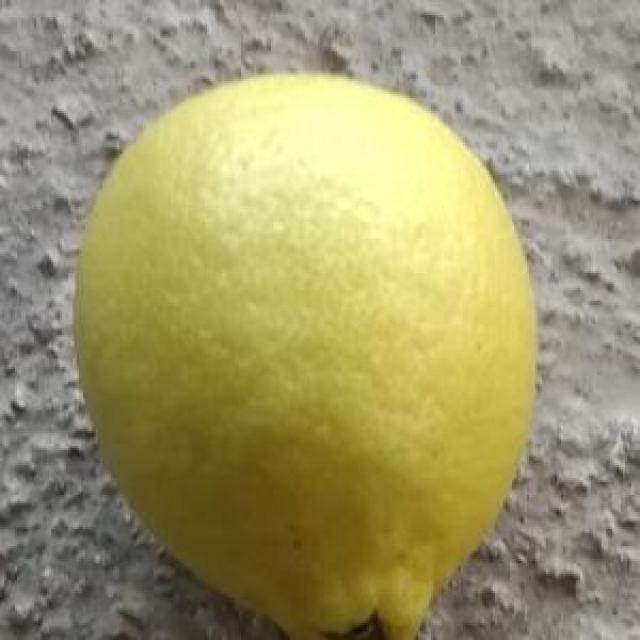lemon: (72, 66, 541, 640)
